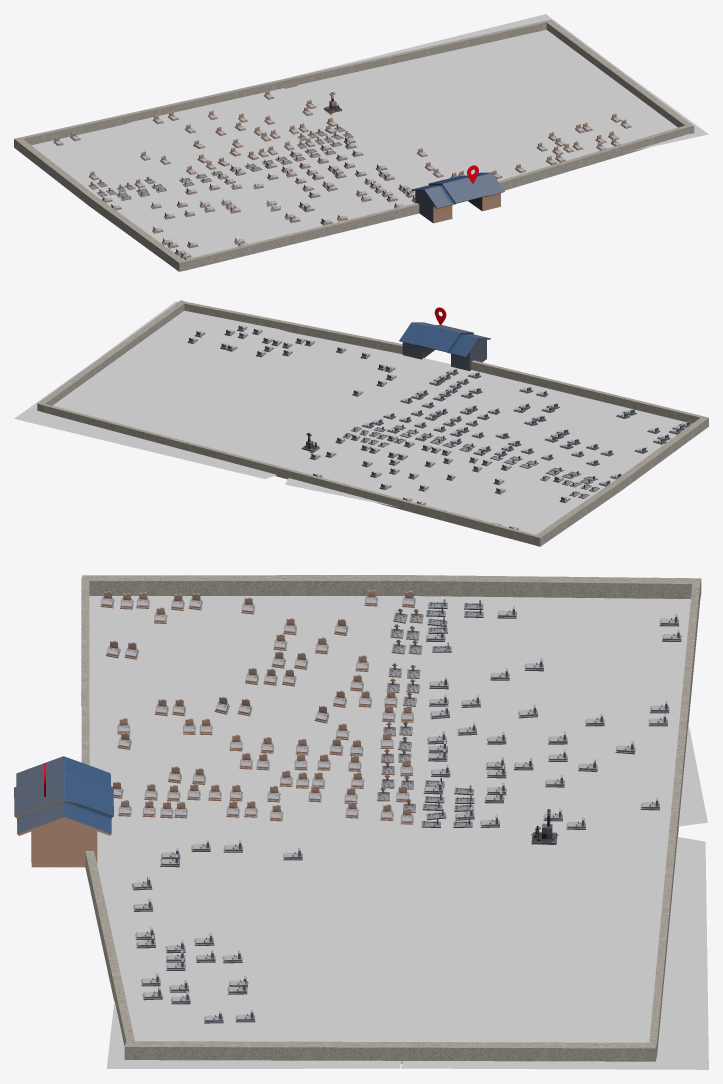
File: cross2.glb
The picture shows the model from 3 angles, top to bottom: view 1: azimuth 30°, elevation 25°; view 2: azimuth 150°, elevation 25°; view 3: azimuth 270°, elevation 25°; orthographic projection. The views are drawn at different scales.
Parts seen in each view (by area): view 1: zone.002, zone.003, Cube, zone, zone.001, Plane, Entrance; view 2: zone.002, zone.003, Cube, zone, zone.001, Plane, Entrance; view 3: zone.002, zone.003, zone, zone.001, Cube, Plane, Entrance.
Boxes of the visible parts, x1,y1,x2,y2 form: zone.002: (359,76,708,191); zone.003: (292,14,628,133); Cube: (14,19,694,271); zone: (45,81,345,197); zone.001: (117,139,412,249); Plane: (31,79,611,259); Entrance: (411,172,504,223); zone.002: (98,301,443,426); zone.003: (14,359,346,478); Cube: (37,300,708,546); zone: (285,429,593,532); zone.001: (362,377,664,482); Plane: (113,332,691,534); Entrance: (399,322,490,370); zone.002: (106,817,428,1068); zone.003: (400,834,708,1069); zone: (413,611,707,826); zone.001: (138,611,421,822); Cube: (81,575,701,1063); Plane: (89,596,690,1041); Entrance: (14,756,113,867).
Size of the model in its own units: 126 by 9.95 by 76.88.
6 materials, 5 textured.
